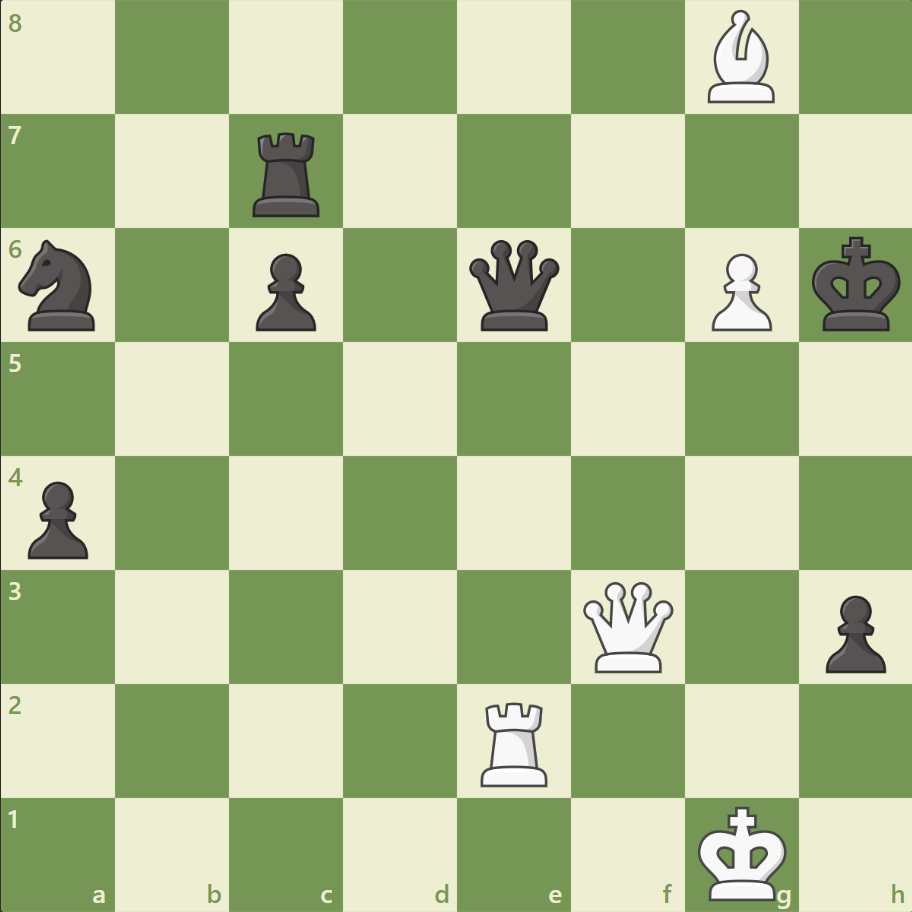B: (698, 6, 782, 109)
K: (692, 798, 792, 906)
P: (701, 246, 776, 337)
Q: (578, 576, 677, 676)
R: (473, 693, 556, 790)
k: (806, 231, 906, 339)
n: (11, 234, 108, 337)
p: (247, 246, 322, 337), (20, 473, 95, 564), (815, 586, 889, 677)
q: (464, 236, 563, 335)
r: (246, 125, 329, 222)
